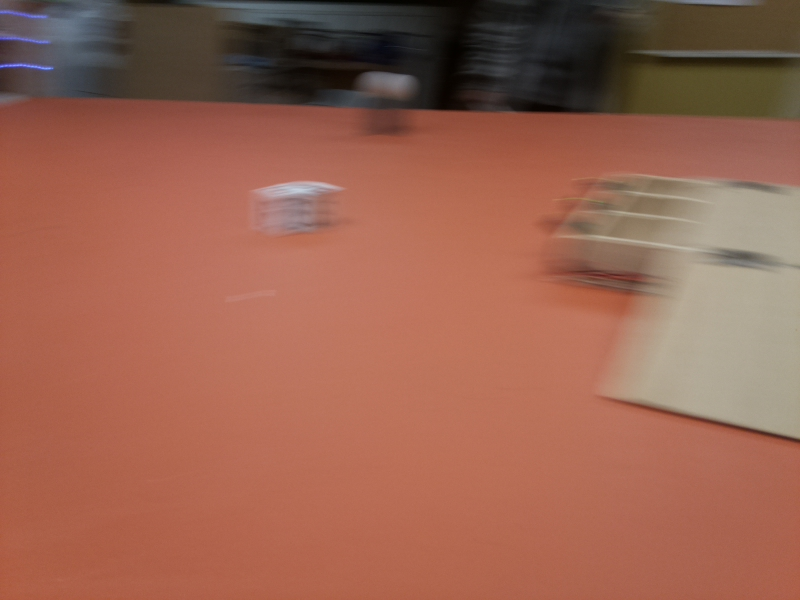blockE: (250, 182, 341, 240)
corner: (1, 1, 53, 99)
obstacle: (354, 74, 416, 137)
side: (532, 172, 699, 292)
slope: (592, 255, 800, 448), (713, 178, 800, 192)
